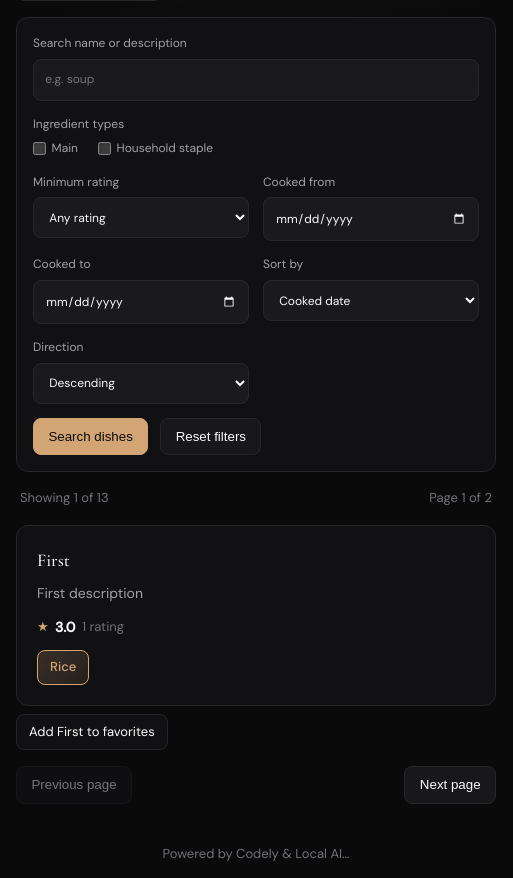
Test case: Home cooked-dish search should › request the next result page and update disabled pagination
(page scrolled)
Expected: the heading "First" is shown, [37, 549, 70, 571]
What coordinates should you click on to do the following:
click the button "Next page"
I would click on:
 (450, 785)
Its box is [404, 766, 496, 804].
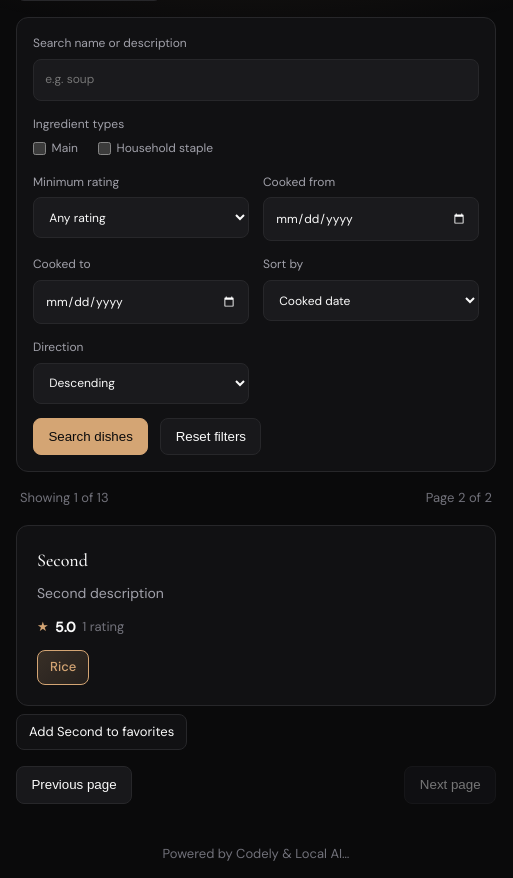
Expected: the heading "Second" is shown, [37, 549, 88, 571]
Expected: the button "Next page" is disabled, [404, 766, 496, 804]
Expected: the button "Previous page" is enabled, [16, 766, 132, 804]
